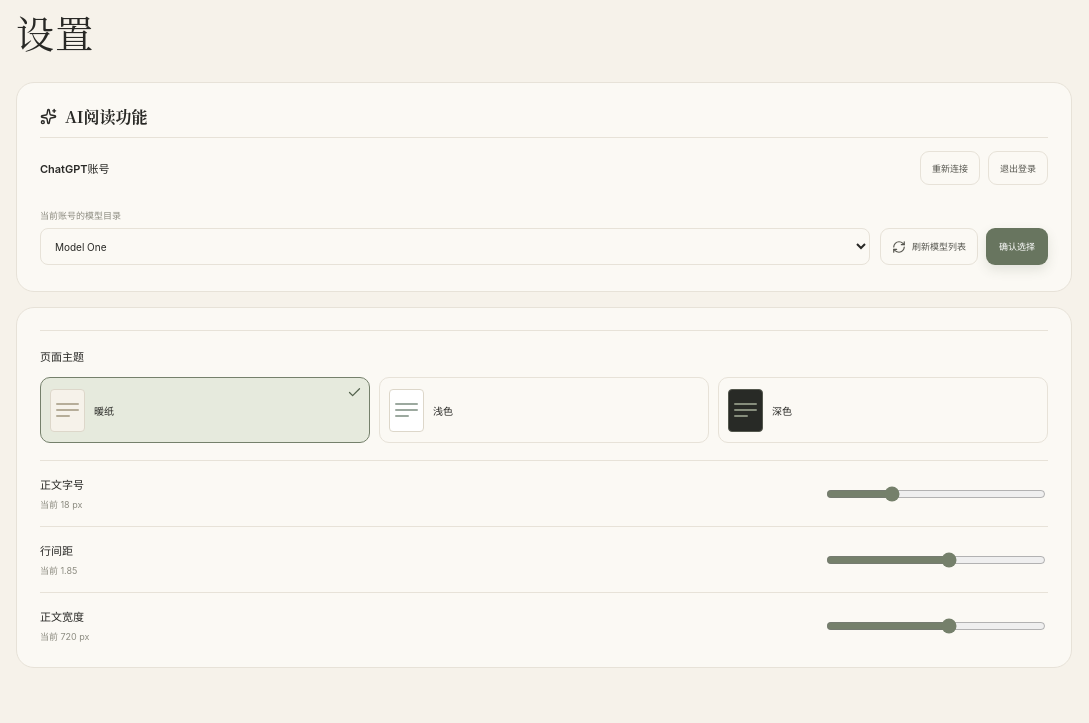
ChatGPT AI settings UI › confirms the current model too and shows feedback
Click the button with class "ai-confirm-model" at (1017, 247), box top-left (986, 228), bottom-right (1048, 265)
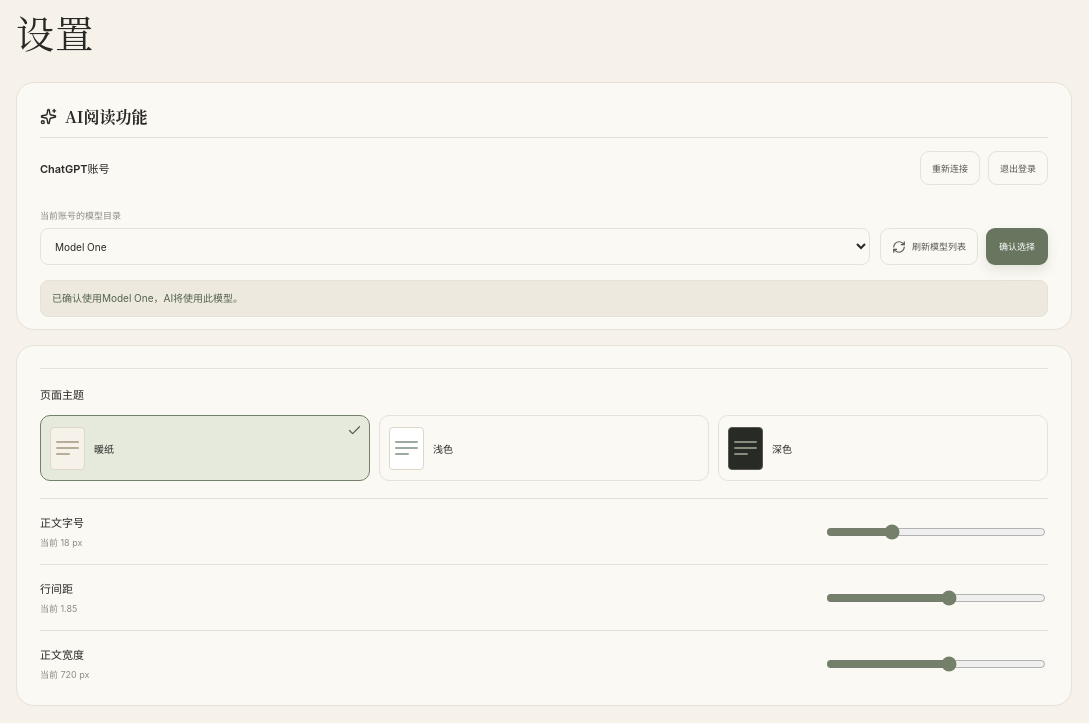
Now the message with class "ai-notice" shows "已确认使用Model One", box top-left (52, 292), bottom-right (243, 304)
